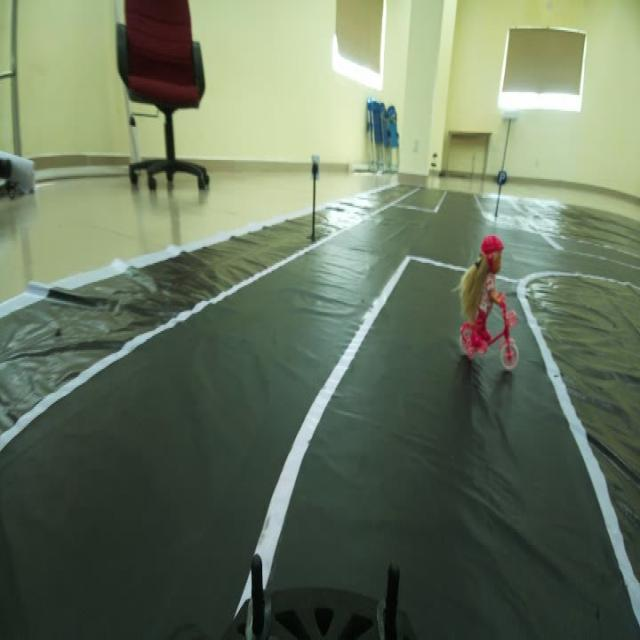pedestrian: (461, 235, 525, 369)
